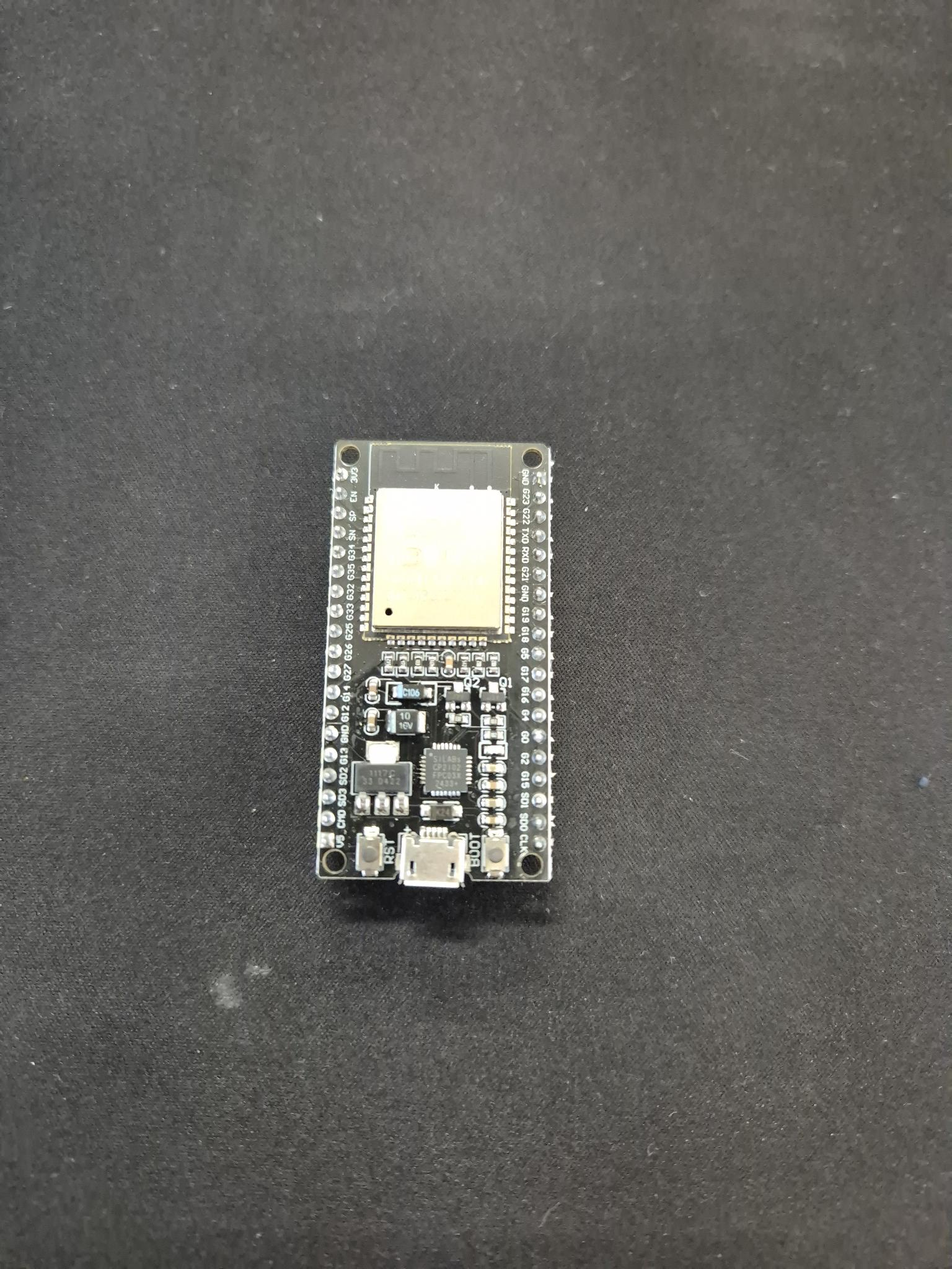esp32-dev: (317, 440, 552, 888)
